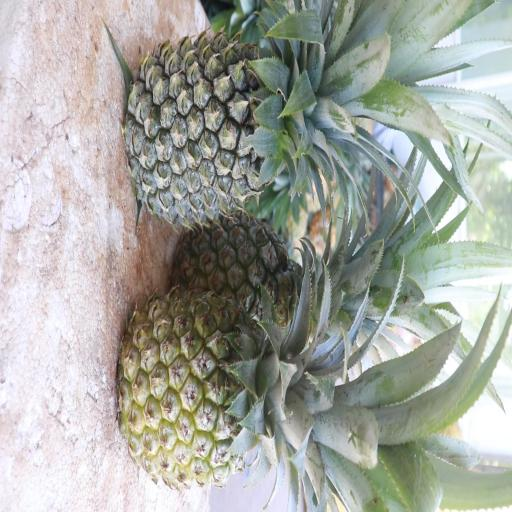------------------------------: (112, 277, 349, 500), (169, 197, 369, 352)
